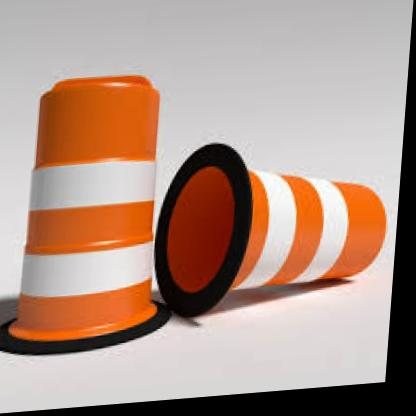obstacle: (166, 128, 399, 317), (13, 61, 166, 342)
